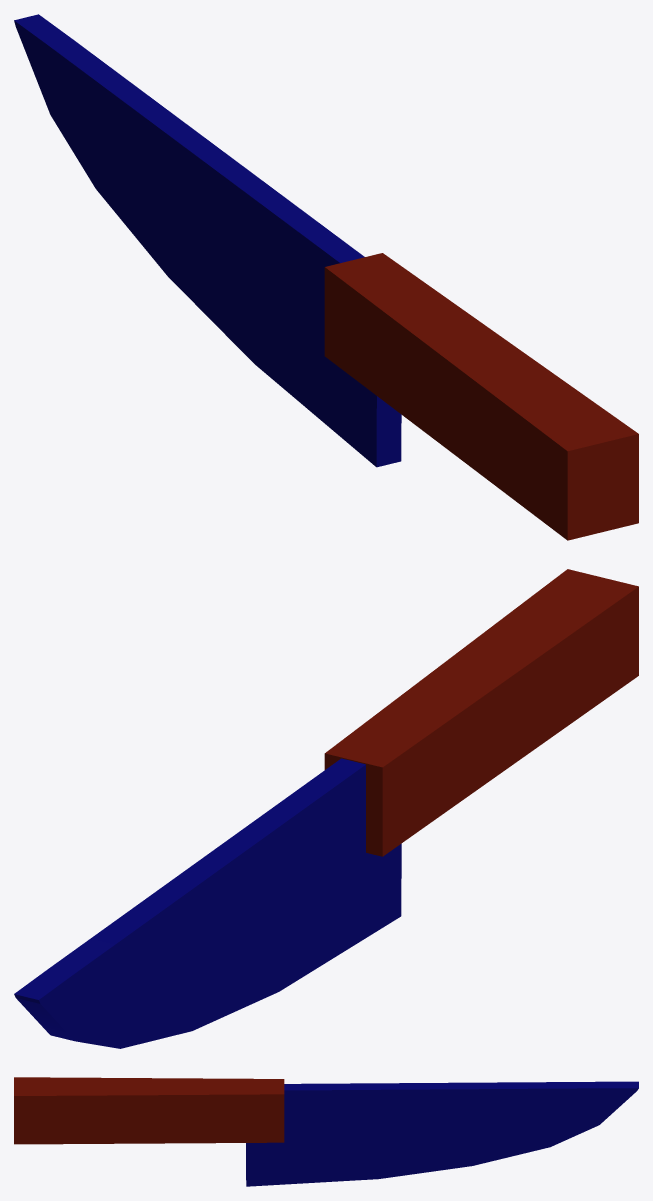
The model's file is SM_Knife.fbx.
3 views of the same model, one above another, from view 1: azimuth 30°, elevation 25°; view 2: azimuth 150°, elevation 25°; view 3: azimuth 270°, elevation 25° (orthographic). The views are drawn at different scales.
Visible parts, largest first — view 1: SM_Knife; view 2: SM_Knife; view 3: SM_Knife.
Part boxes in pixels (bbox=[...]): SM_Knife: bbox=[14, 14, 638, 540]; SM_Knife: bbox=[14, 569, 638, 1048]; SM_Knife: bbox=[14, 1077, 638, 1186].
Size of the model in its own units: 5.4 by 13.14 by 75.66.
